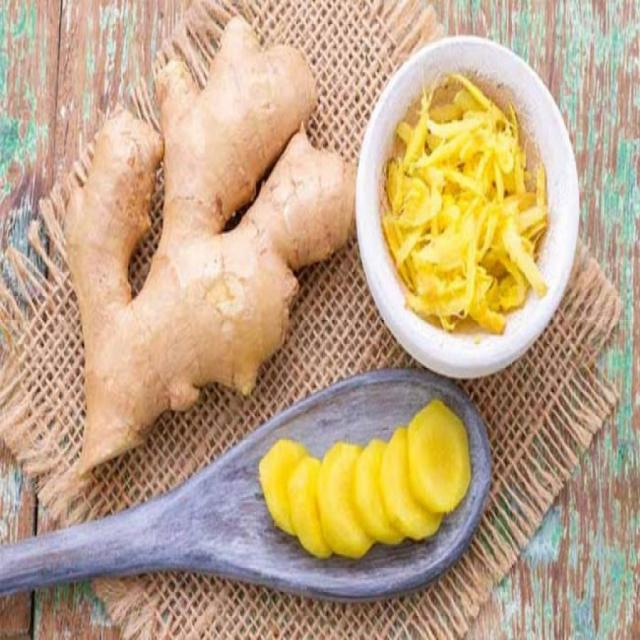ginger-root: (29, 5, 372, 506)
